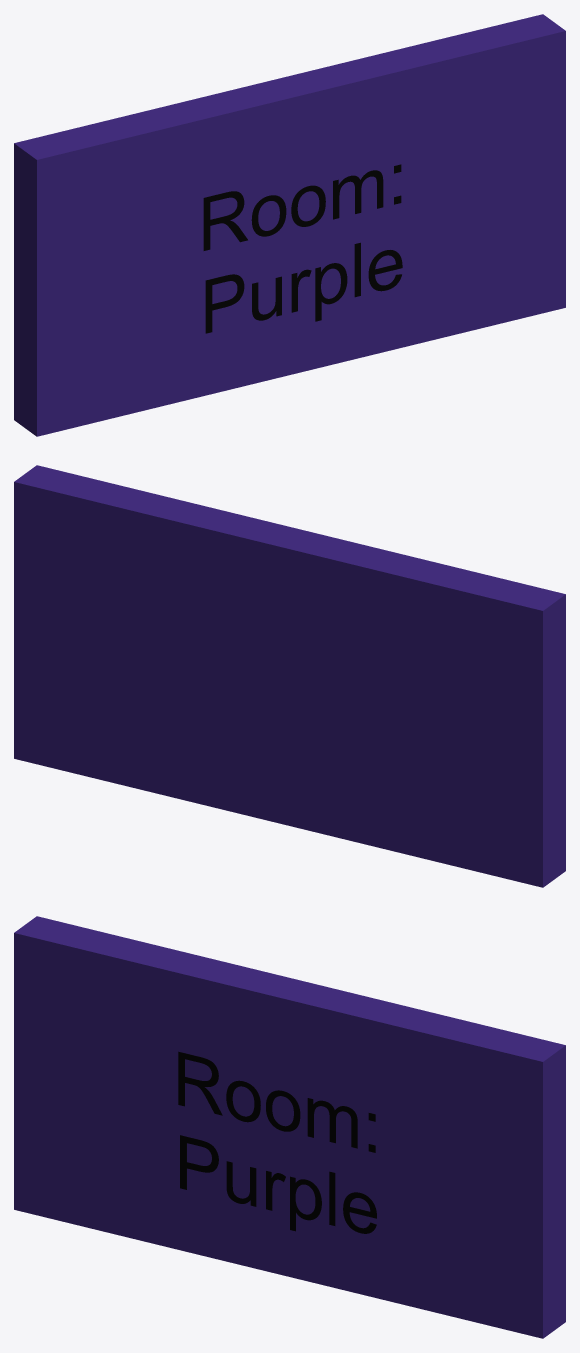
File: ROOM PLAQUE - PURPLE.fbx
3 renders of one model, top to bottom at view 1: azimuth 30°, elevation 25°; view 2: azimuth 150°, elevation 25°; view 3: azimuth 330°, elevation 25°, orthographic.
Parts seen in each view (by area): view 1: Box001, TextPlus001; view 2: Box001; view 3: Box001, TextPlus001.
Boxes of the visible parts, x1,y1,x2,y2 form: Box001: [14, 14, 565, 436]; TextPlus001: [203, 164, 402, 333]; Box001: [14, 465, 565, 887]; Box001: [14, 916, 565, 1338]; TextPlus001: [178, 1051, 376, 1233].
Bounding box in the file's own units: 40 × 20 × 3.17.
